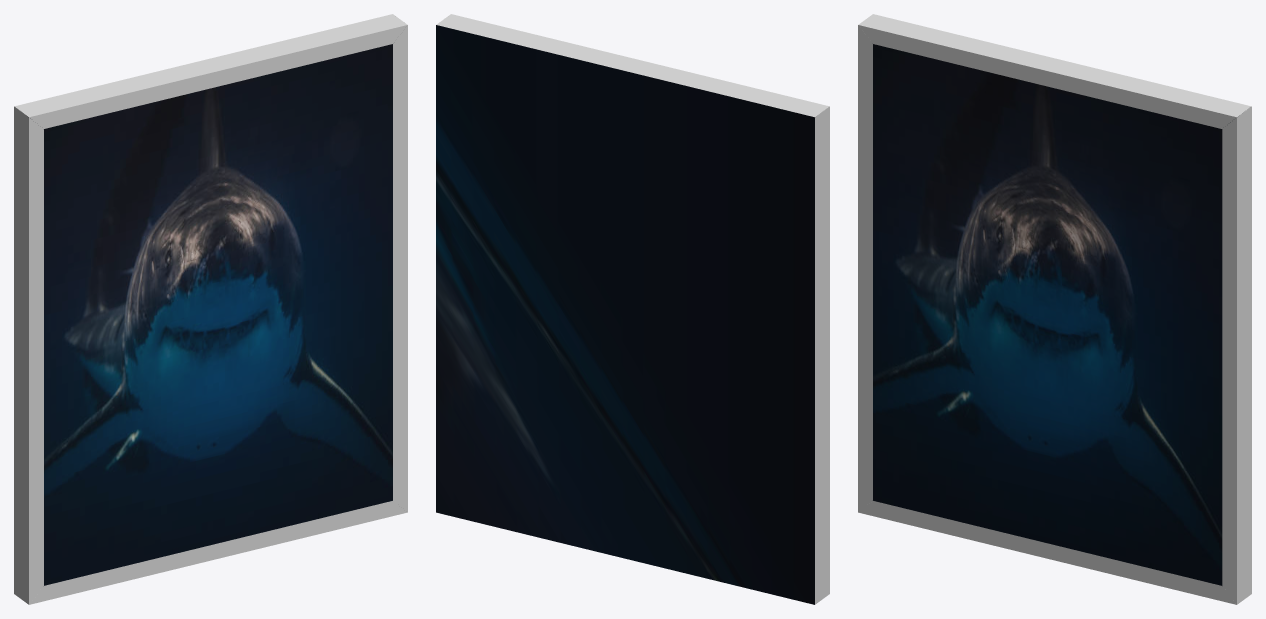
The model's file is cuadroshark.fbx.
The picture shows the model from 3 angles, left to right: view 1: azimuth 30°, elevation 25°; view 2: azimuth 150°, elevation 25°; view 3: azimuth 330°, elevation 25°; orthographic projection.
Parts seen in each view (by area): view 1: BezierCurve; view 2: BezierCurve; view 3: BezierCurve.
Boxes of the visible parts, <box> form: BezierCurve: <box>14,14,407,604</box>; BezierCurve: <box>436,14,829,604</box>; BezierCurve: <box>858,14,1251,604</box>.
Size of the model in its own units: 22.04 by 27.12 by 1.5.
2 materials, 1 textured.
